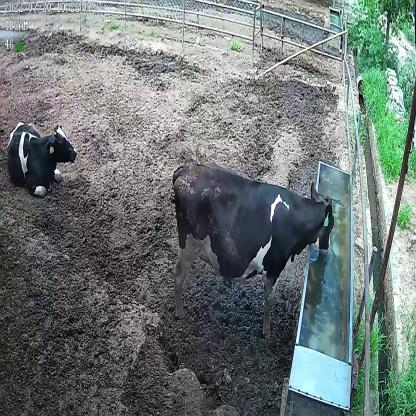cow: (170, 157, 335, 342), (5, 116, 78, 200)
